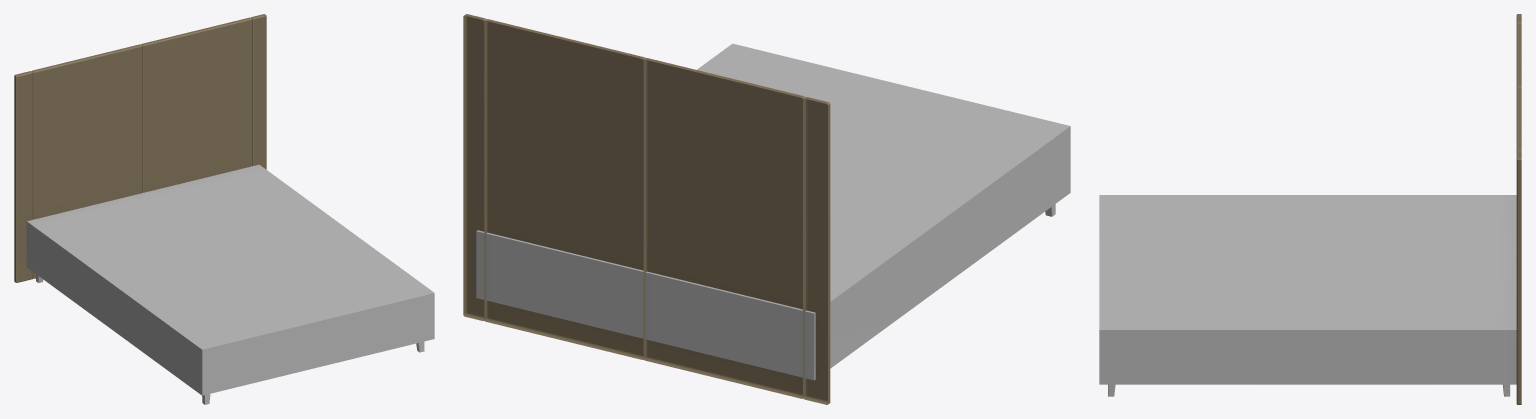
File: raw_model.obj
The picture shows the model from 3 angles, left to right: view 1: azimuth 30°, elevation 25°; view 2: azimuth 150°, elevation 25°; view 3: azimuth 270°, elevation 25°; orthographic projection. The views are drawn at different scales.
Parts seen in each view (by area): view 1: solid_002, solid_001; view 2: solid_001, solid_002; view 3: solid_002, solid_001.
Part boxes in pixels (x1,y1,x2,y2): solid_002: (26, 164, 434, 404); solid_001: (14, 14, 266, 282); solid_001: (463, 14, 830, 404); solid_002: (476, 43, 1070, 380); solid_002: (1099, 195, 1516, 396); solid_001: (1516, 14, 1521, 404).
Bounding box in the file's own units: 1.54 × 1.22 × 1.89.
Materials: 1 (1 with a texture image).
